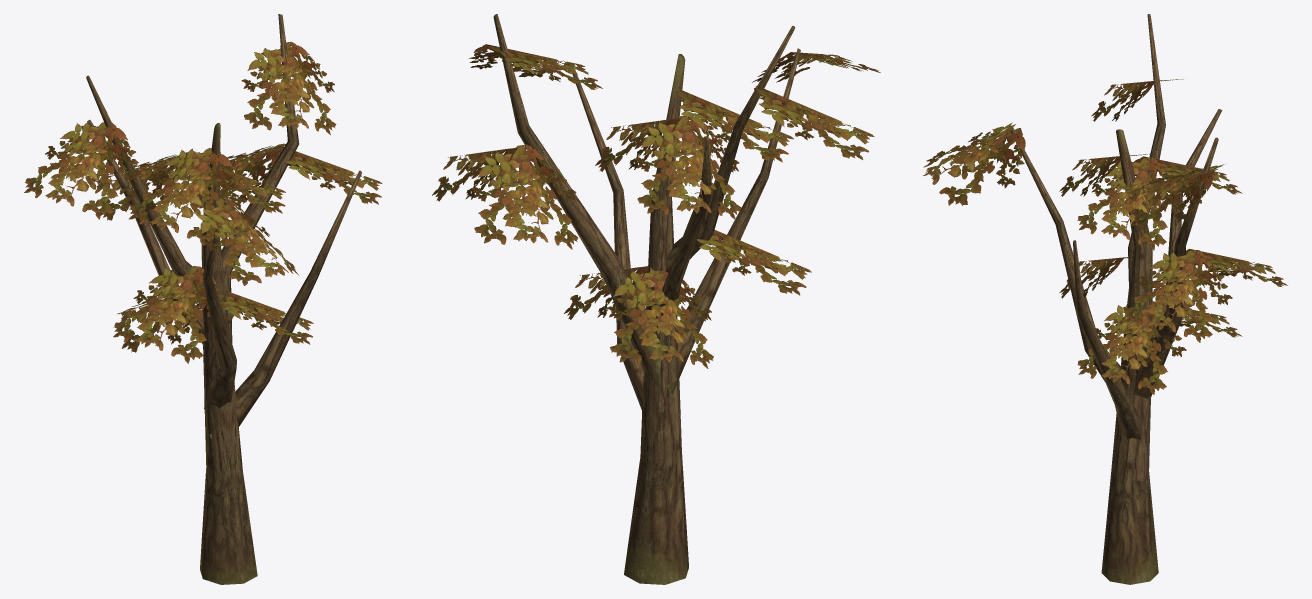
File: obj_macoprtr14.glb
The picture shows the model from 3 angles, left to right: view 1: azimuth 30°, elevation 25°; view 2: azimuth 150°, elevation 25°; view 3: azimuth 270°, elevation 25°; orthographic projection. The views are drawn at different scales.
Visible parts, largest first — view 1: part_8, part_14, part_13, part_16, part_6, part_15, part_7, part_3, part_1, part_0, part_9, part_4 (+5 smaller); view 2: part_8, part_10, part_12, part_5, part_1, part_3, part_14, part_7, part_13, part_6, part_0, part_16 (+5 smaller); view 3: part_8, part_9, part_4, part_15, part_11, part_16, part_7, part_1, part_3, part_0, part_10, part_14 (+5 smaller).
Part boxes in pixels (x1,y1,x2,y2): part_8: (200,123,257,584); part_14: (24,122,142,219); part_13: (129,148,246,245); part_16: (241,41,336,134); part_6: (113,266,230,363); part_15: (196,196,298,285); part_7: (209,170,361,438); part_3: (203,200,236,409); part_1: (221,14,299,343); part_0: (86,75,233,323); part_9: (274,145,382,204); part_4: (220,291,313,344); part_8: (624,54,688,584); part_10: (471,144,578,249); part_12: (634,115,741,219); part_5: (606,267,713,368); part_1: (493,14,661,386); part_3: (664,48,800,394); part_14: (754,86,874,159); part_7: (572,73,680,416); part_13: (676,90,793,162); part_6: (697,230,811,295); part_0: (634,26,795,287); part_16: (469,44,602,89); part_8: (1101,129,1158,584); part_9: (1123,249,1232,342); part_4: (1077,302,1186,394); part_15: (923,122,1025,205); part_11: (1077,157,1186,250); part_16: (1126,164,1224,229); part_7: (1073,240,1142,439); part_1: (1133,137,1218,399); part_3: (1010,129,1120,381); part_0: (1128,14,1165,329); part_10: (1186,249,1287,286); part_14: (1091,79,1183,121).
Size of the model in its own units: 10.56 by 13.98 by 9.63.
2 materials, 2 textured.
